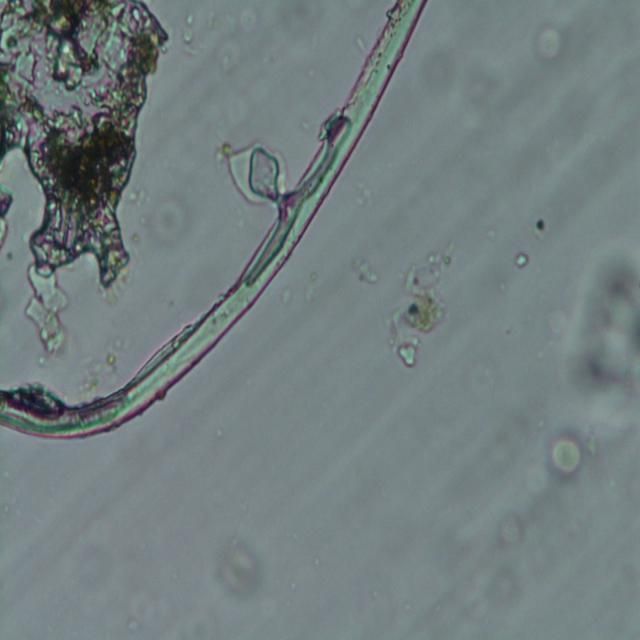Background material: (0, 0, 163, 339), (560, 224, 640, 452), (387, 241, 458, 369), (474, 348, 542, 476), (426, 43, 514, 135), (468, 510, 534, 617), (222, 141, 288, 212), (74, 520, 124, 603), (218, 529, 268, 599), (114, 581, 180, 634), (149, 185, 193, 249), (544, 432, 585, 479), (534, 21, 564, 68), (351, 174, 377, 218), (353, 256, 381, 286), (514, 250, 530, 270)
Microfibre: (0, 1, 427, 440)
